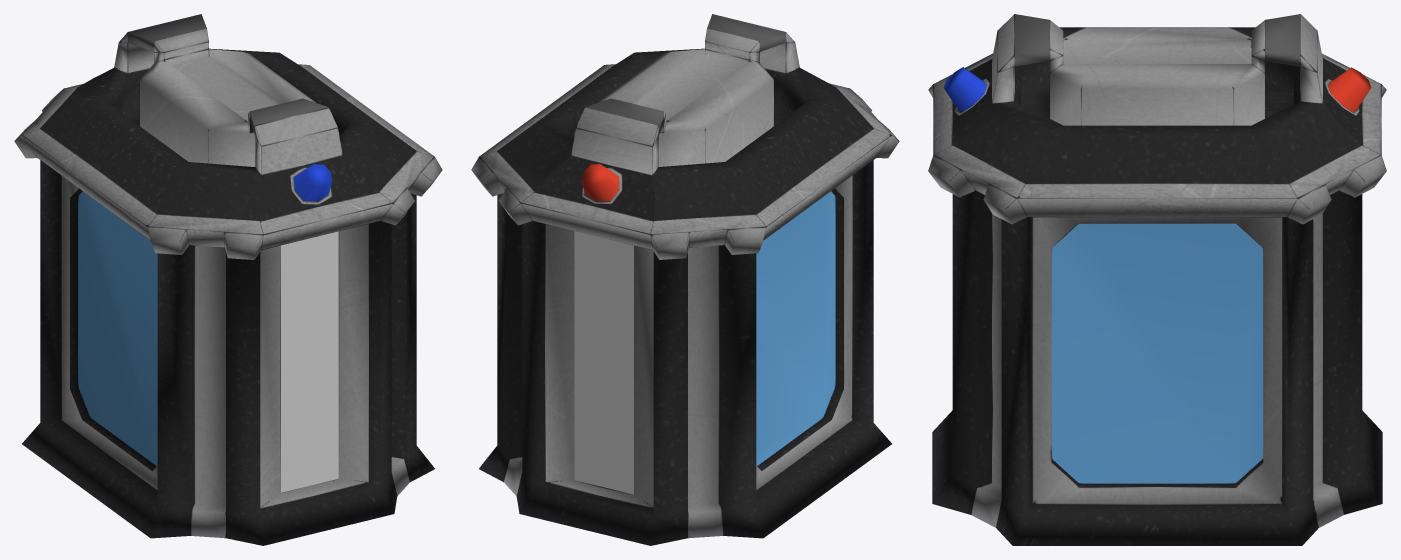
The model's file is SpaceElevatorPart_L1.fbx.
3 views of the same model, side by side, from view 1: azimuth 30°, elevation 25°; view 2: azimuth 150°, elevation 25°; view 3: azimuth 270°, elevation 25° (orthographic). The views are drawn at different scales.
Visible parts, largest first — view 1: Cube, Indicator_L-0; view 2: Cube, Indicator_R-0; view 3: Cube.
Part boxes in pixels (x1,y1,x2,y2): Cube: (14, 14, 442, 545); Indicator_L-0: (281, 231, 338, 492); Cube: (471, 14, 899, 545); Indicator_R-0: (574, 231, 633, 494); Cube: (928, 14, 1386, 545).
Size of the model in its own units: 78.7 by 99.63 by 95.47.
Materials: 5 (1 with a texture image).
